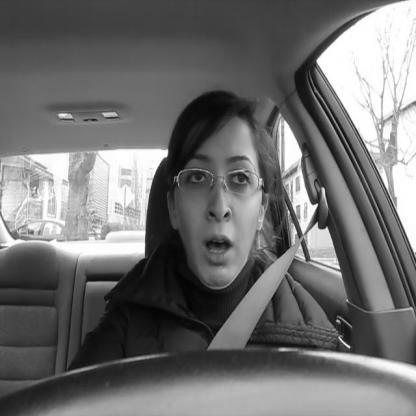seatbelt: (157, 84, 330, 350)
